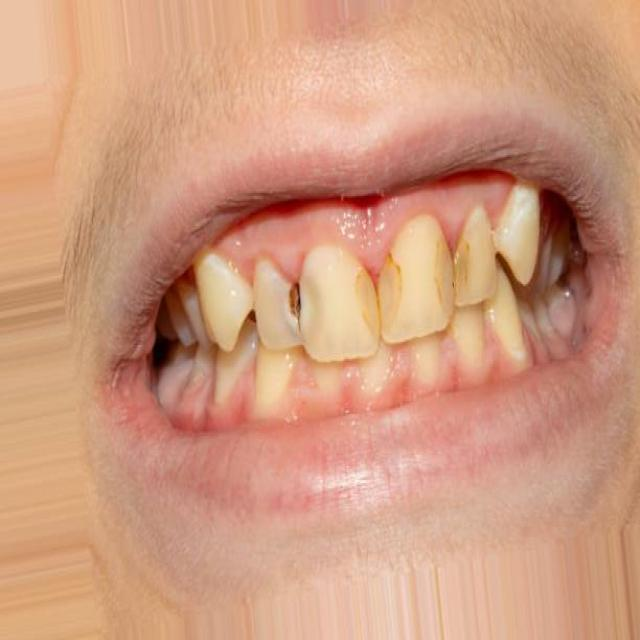caries: (347, 249, 412, 356), (428, 221, 477, 322), (270, 268, 324, 356)
